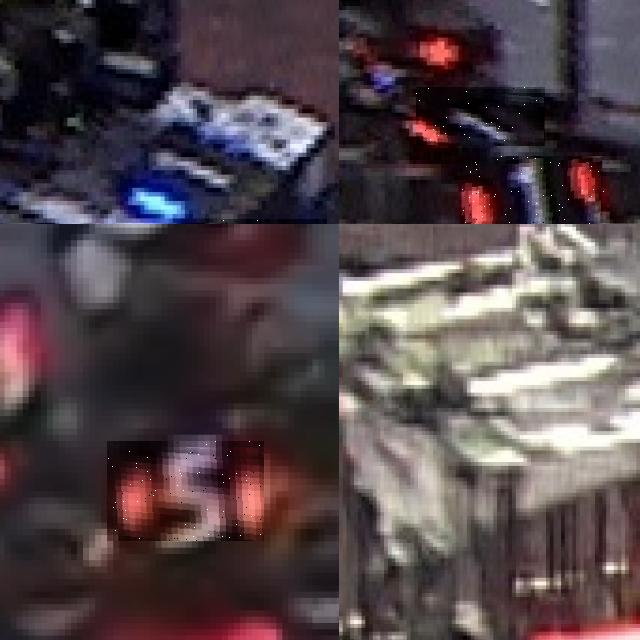R1: (460, 156, 604, 224), (416, 87, 546, 146)
R5: (107, 441, 264, 541)
